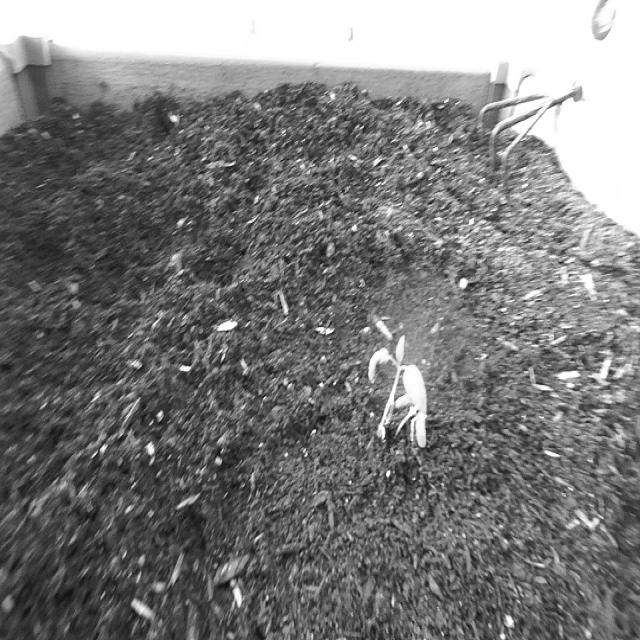Healthy: (363, 326, 428, 440)
